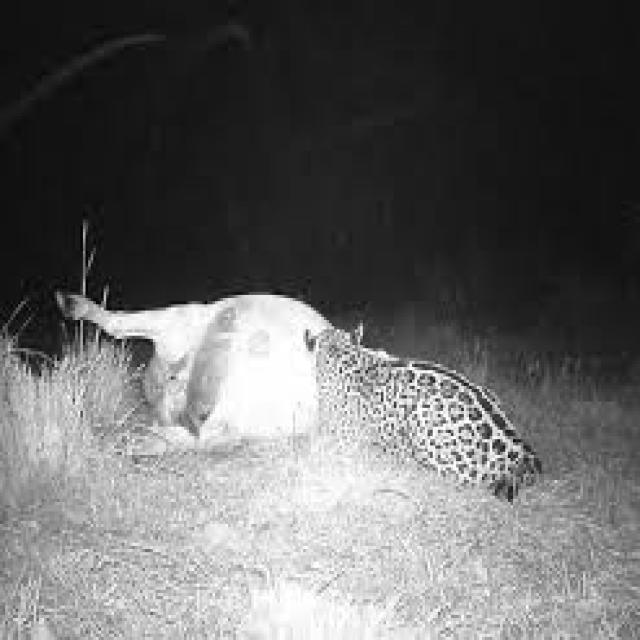Jaguar: (308, 326, 534, 502)
